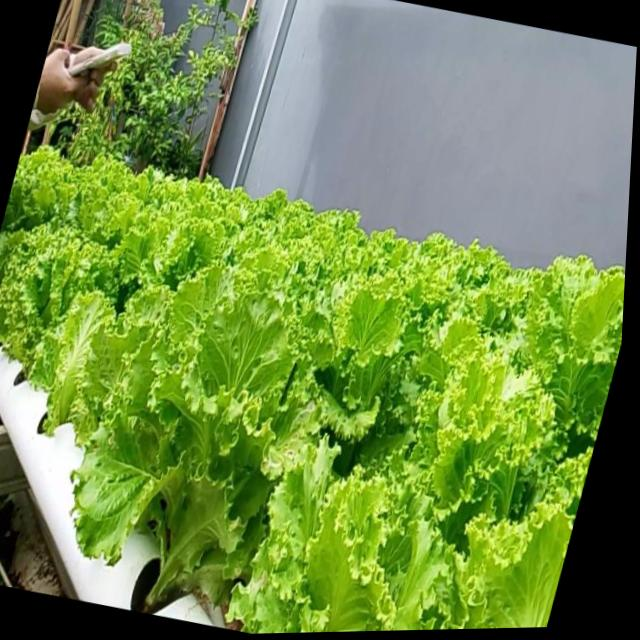Mature: (0, 164, 625, 633), (103, 304, 315, 599), (0, 206, 141, 424)
